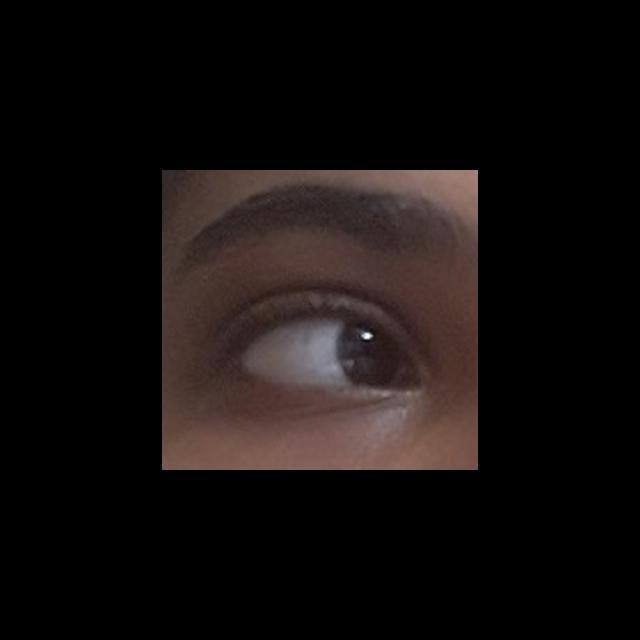eye: (239, 317, 404, 390)
iris: (339, 321, 397, 387)
